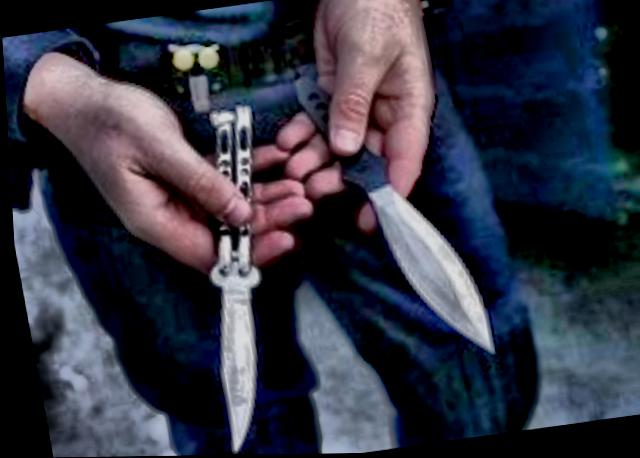knife: (284, 53, 494, 380), (148, 93, 306, 456)
